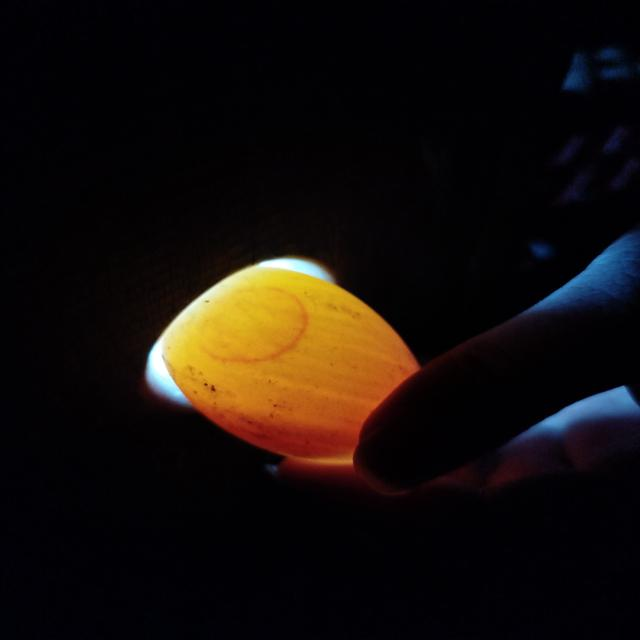Gema Quebrada: (186, 395, 362, 461)
